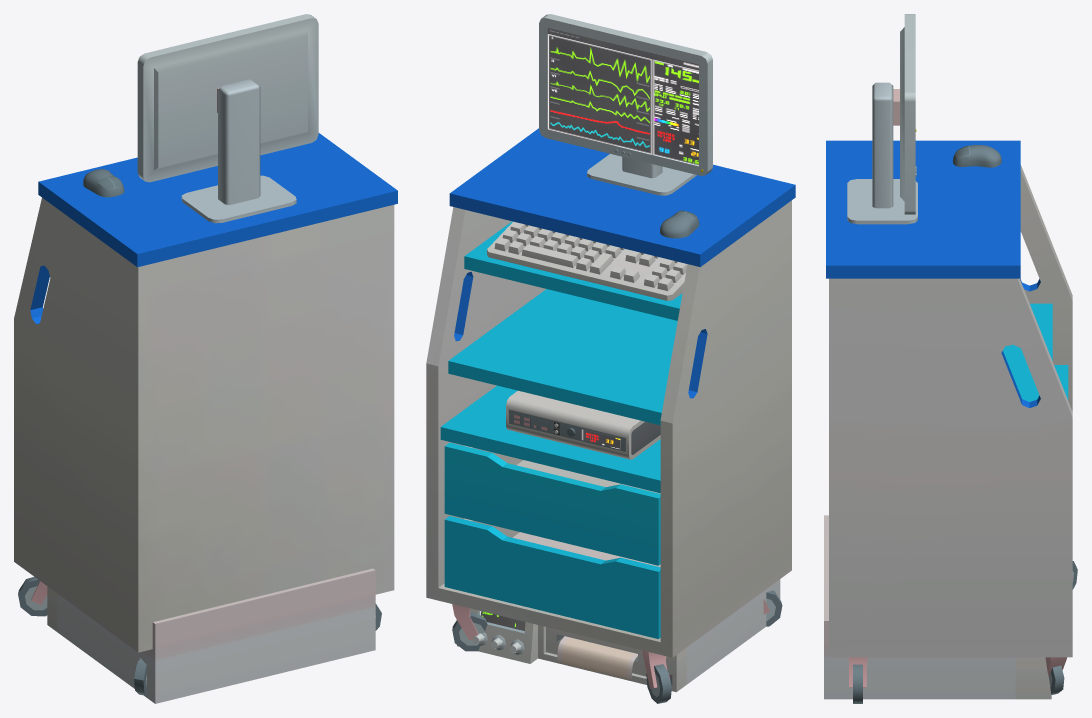
File: Pfb_JLAB_Encephalograph.fbx
The picture shows the model from 3 angles, left to right: view 1: azimuth 30°, elevation 25°; view 2: azimuth 150°, elevation 25°; view 3: azimuth 270°, elevation 25°; orthographic projection. The views are drawn at different scales.
Parts seen in each view (by area): view 1: Color; view 2: Color, Monitors; view 3: Color.
Boxes of the visible parts, x1=… form: Color: x1=14, y1=14, x2=397, y2=703; Color: x1=426, y1=14, x2=795, y2=703; Monitors: x1=480, y1=27, x2=698, y2=630; Color: x1=824, y1=14, x2=1077, y2=703.
Size of the model in its own units: 0.5133 by 1.14 by 0.441.
2 materials, 2 textured.
